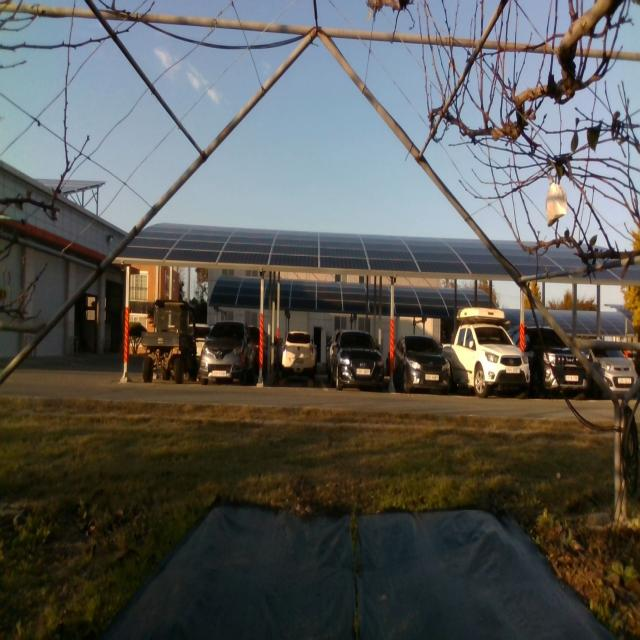pearbags: (545, 183, 567, 227)
